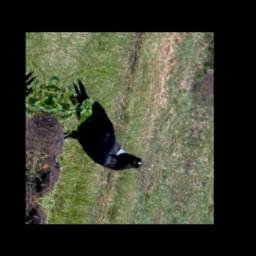Crow: (51, 76, 161, 176)
